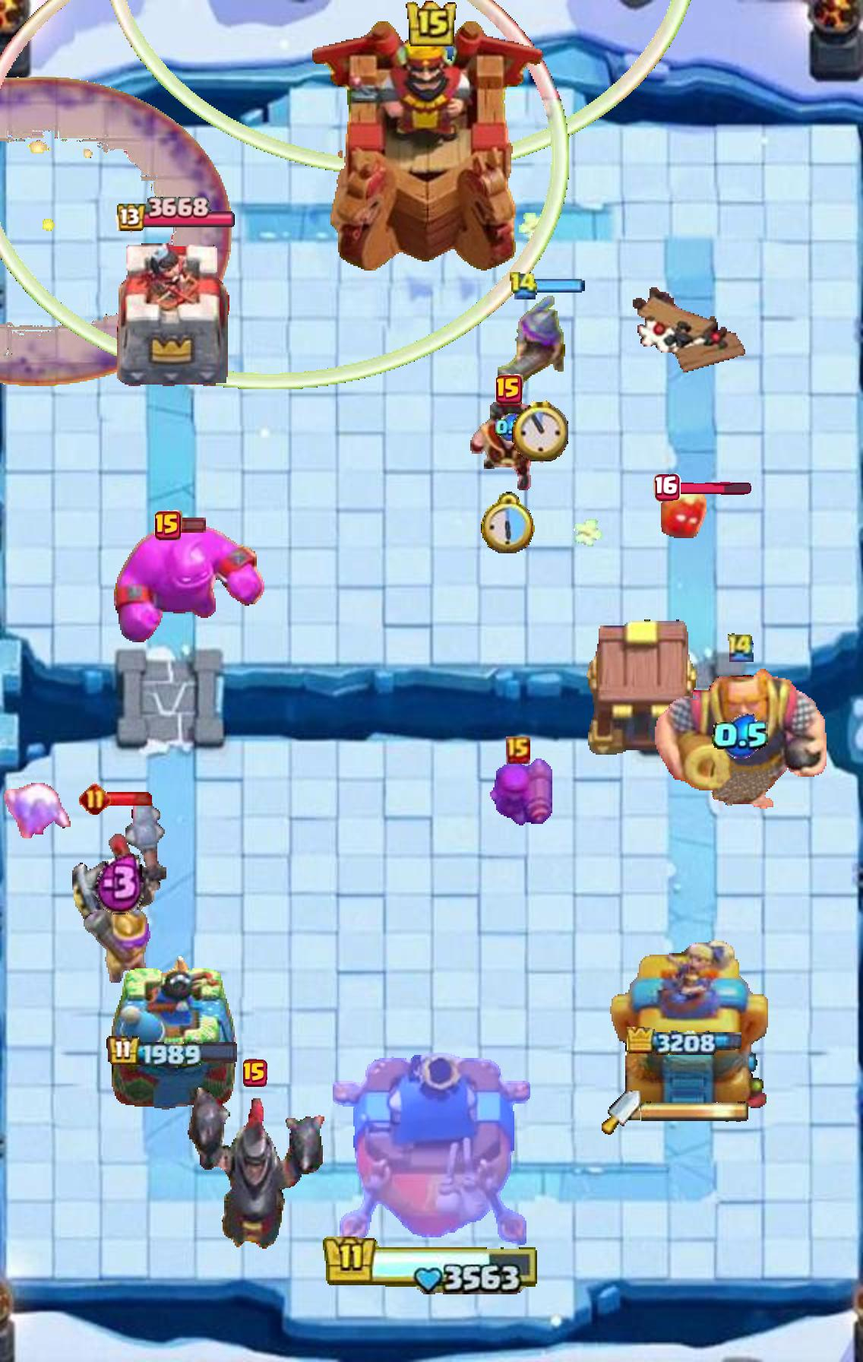elixir: (94, 850, 146, 914), (712, 713, 771, 758), (495, 413, 523, 441)
ice-spirit-evolution: (0, 781, 76, 838)
musketeer: (498, 290, 583, 391), (81, 897, 160, 988)
